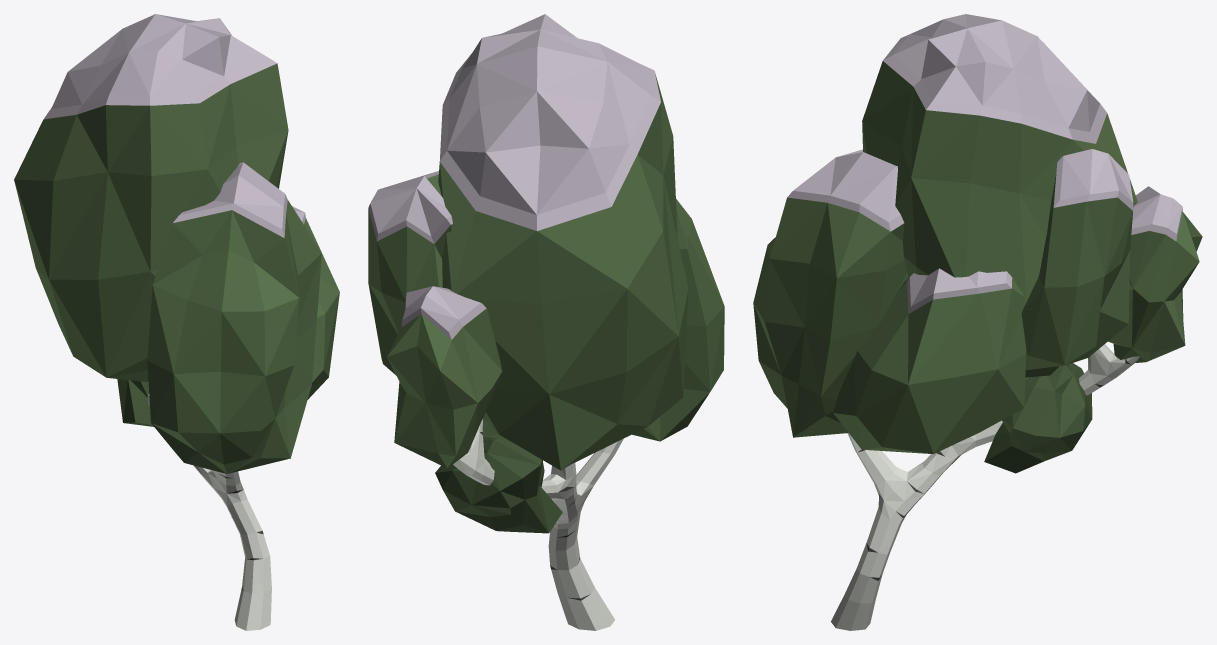
File: BirchTree_Snow_1.glb
The picture shows the model from 3 angles, left to right: view 1: azimuth 30°, elevation 25°; view 2: azimuth 150°, elevation 25°; view 3: azimuth 270°, elevation 25°; orthographic projection. The views are drawn at different scales.
Parts seen in each view (by area): view 1: Model; view 2: Model; view 3: Model.
Part boxes in pixels (x1,y1,x2,y2): Model: (14,14,339,630); Model: (368,14,724,630); Model: (753,14,1202,630).
Size of the model in its own units: 170 by 359 by 248.
